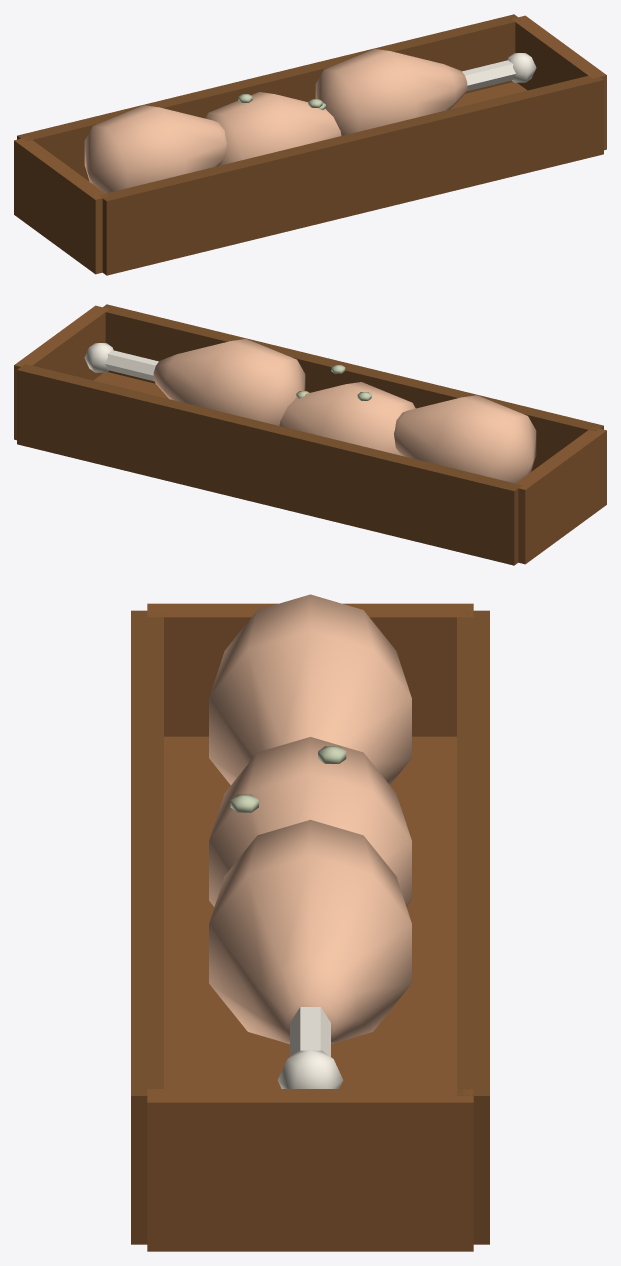
File: Meat_Chicken.fbx
The picture shows the model from 3 angles, top to bottom: view 1: azimuth 30°, elevation 25°; view 2: azimuth 150°, elevation 25°; view 3: azimuth 270°, elevation 25°; orthographic projection. The views are drawn at different scales.
Parts seen in each view (by area): view 1: Meat_Chicken__Stack, Meat_Chicken; view 2: Meat_Chicken__Stack, Meat_Chicken; view 3: Meat_Chicken__Stack, Meat_Chicken, Meat_Chicken__Rotten.
Boxes of the visible parts, box(x1,y1,x2,y2) form: Meat_Chicken__Stack: box(14, 14, 606, 275); Meat_Chicken: box(205, 92, 341, 165); Meat_Chicken__Stack: box(14, 304, 606, 565); Meat_Chicken: box(279, 382, 415, 455); Meat_Chicken__Stack: box(131, 594, 489, 1251); Meat_Chicken: box(209, 737, 411, 906); Meat_Chicken__Rotten: box(230, 746, 346, 812).
Bounding box in the file's own units: 0.2879 × 0.06 × 0.0875.
